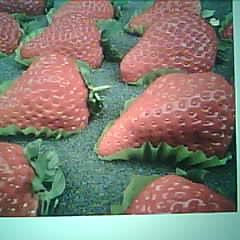straw-ripe: (98, 72, 235, 161), (0, 54, 89, 134), (119, 15, 219, 81)
